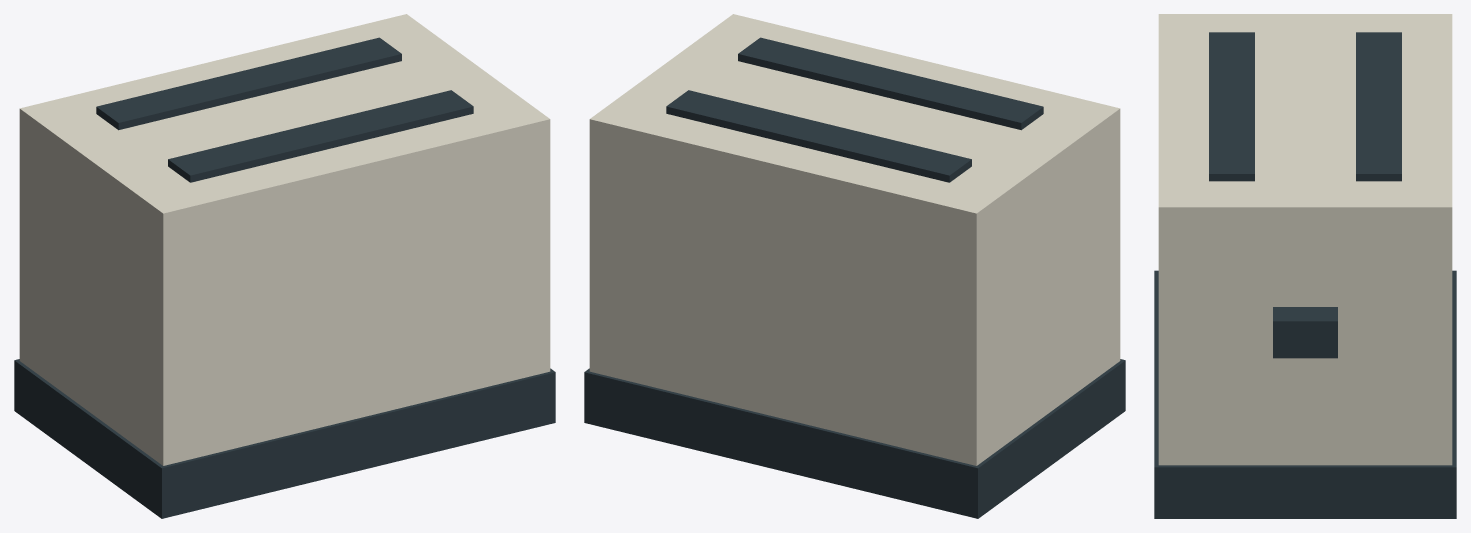
File: toaster_903.glb
3 renders of one model, left to right at view 1: azimuth 30°, elevation 25°; view 2: azimuth 150°, elevation 25°; view 3: azimuth 270°, elevation 25°, orthographic. The views are drawn at different scales.
Parts seen in each view (by area): view 1: toaster_903; view 2: toaster_903; view 3: toaster_903.
Boxes of the visible parts, bbox=[...] form: toaster_903: bbox=[14, 14, 555, 518]; toaster_903: bbox=[584, 14, 1125, 518]; toaster_903: bbox=[1154, 14, 1456, 518].
Size of the model in its own units: 0.303 by 0.215 by 0.185.
